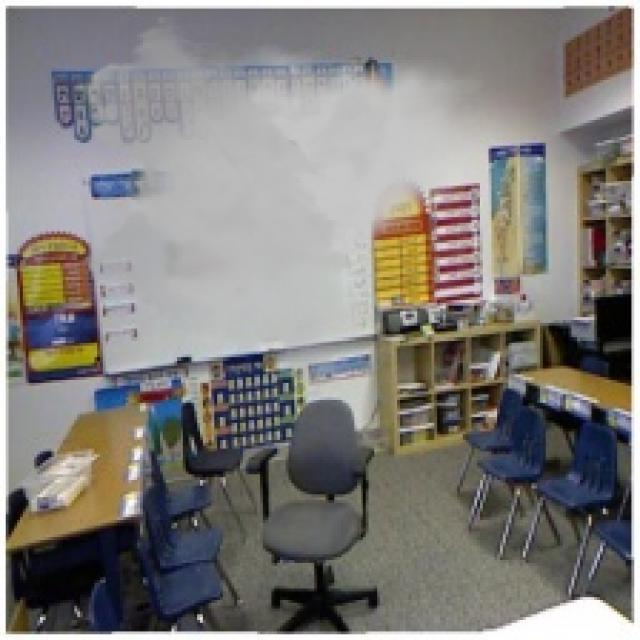Smoke: (77, 14, 483, 400)
